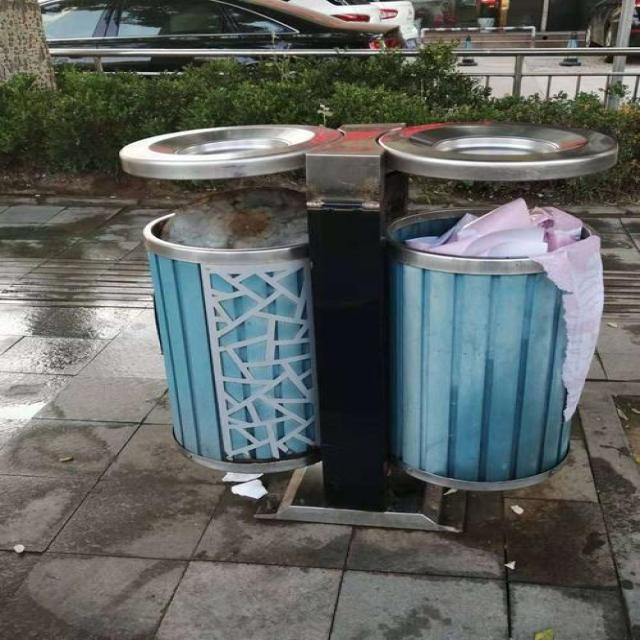overflow: (118, 121, 617, 530)
